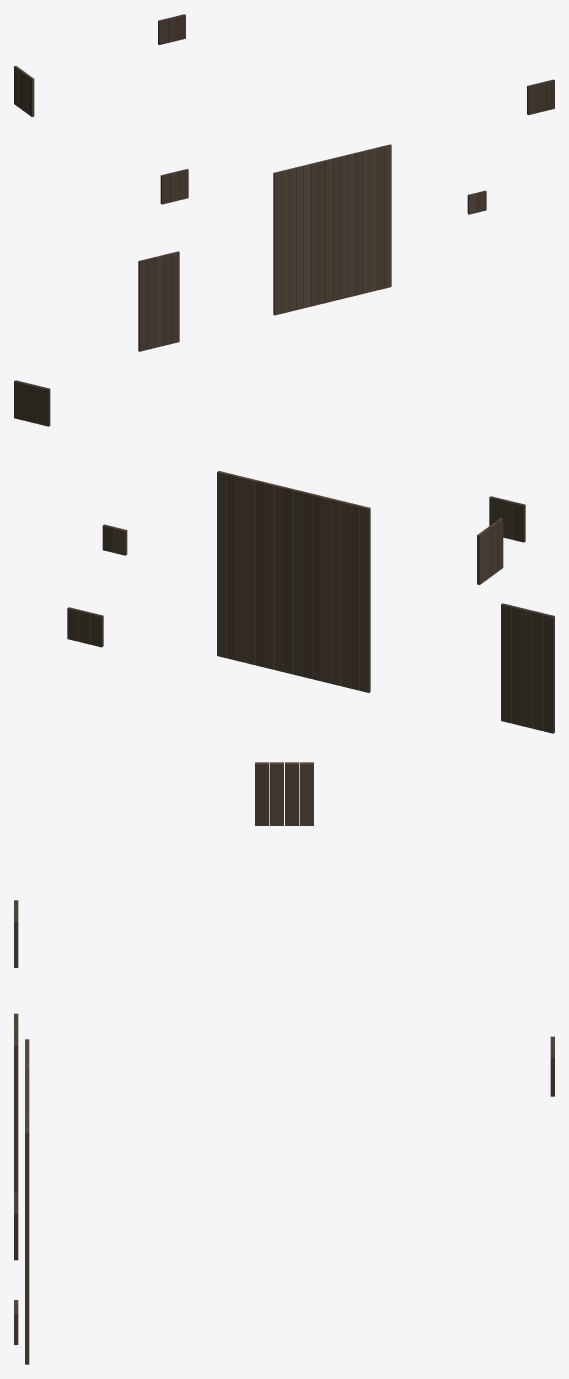
File: SM_Bld_006_Wood.glb
The picture shows the model from 3 angles, top to bottom: view 1: azimuth 30°, elevation 25°; view 2: azimuth 150°, elevation 25°; view 3: azimuth 270°, elevation 25°; orthographic projection. The views are drawn at different scales.
Visible parts, largest first — view 1: SM_Bld_006_Wood; view 2: SM_Bld_006_Wood; view 3: SM_Bld_006_Wood.
Boxes of the visible parts, x1=… form: SM_Bld_006_Wood: x1=14, y1=14, x2=554, y2=351; SM_Bld_006_Wood: x1=14, y1=380, x2=554, y2=733; SM_Bld_006_Wood: x1=14, y1=762, x2=554, y2=1364.
Bounding box in the file's own units: 9.95 × 4.8 × 6.34.
